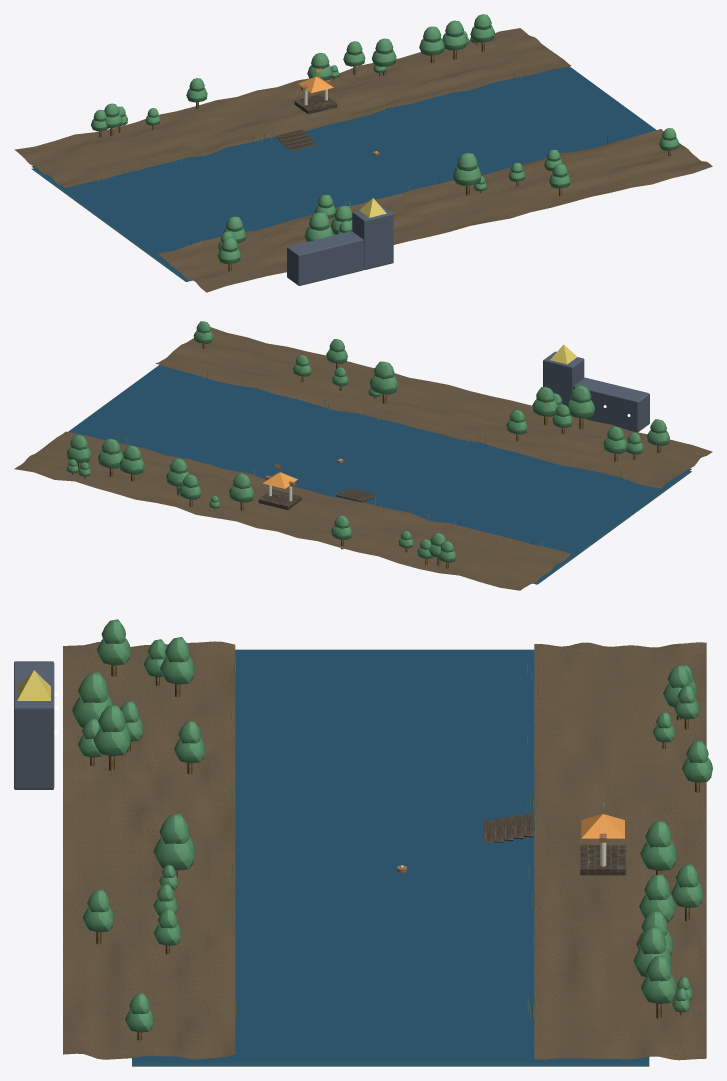
Rendered from adi-03-ganga.glb.
3 renders of one model, top to bottom at view 1: azimuth 30°, elevation 25°; view 2: azimuth 150°, elevation 25°; view 3: azimuth 270°, elevation 25°, orthographic. The views are drawn at different scales.
Parts seen in each view (by area): view 1: GEO-river, GEO-bank-near, GEO-bank-far, GEO-palace-main, GEO-palace-tower, GEO-ghat-step, GEO-shrine-base, GEO-riverbed; view 2: GEO-river, GEO-bank-far, GEO-bank-near, GEO-palace-main, GEO-palace-tower, GEO-shrine-base, GEO-riverbed, GEO-tree-canopy.048; view 3: GEO-river, GEO-bank-near, GEO-bank-far, GEO-palace-tower, GEO-riverbed, GEO-shrine-base, GEO-ghat-step, GEO-tree-canopy.048, GEO-shrine-roof, GEO-tree-canopy.052, GEO-tree-canopy.006, GEO-palace-dome (+6 smaller).
Boxes of the visible parts, <box> form: GEO-river: <box>31,66,656,279</box>; GEO-bank-near: <box>14,28,571,187</box>; GEO-bank-far: <box>155,129,712,292</box>; GEO-palace-main: <box>287,231,363,285</box>; GEO-palace-tower: <box>352,205,393,269</box>; GEO-ghat-step: <box>276,129,316,151</box>; GEO-shrine-base: <box>294,93,337,114</box>; GEO-riverbed: <box>31,168,191,281</box>; GEO-river: <box>68,365,691,582</box>; GEO-bank-far: <box>155,327,712,488</box>; GEO-bank-near: <box>14,431,571,590</box>; GEO-palace-main: <box>573,377,649,432</box>; GEO-palace-tower: <box>543,351,584,405</box>; GEO-shrine-base: <box>258,489,301,509</box>; GEO-riverbed: <box>533,471,691,584</box>; GEO-tree-canopy.048: <box>369,375,398,394</box>; GEO-river: <box>132,649,649,1062</box>; GEO-bank-near: <box>534,642,706,1060</box>; GEO-bank-far: <box>63,641,235,1059</box>; GEO-palace-tower: <box>14,683,54,789</box>; GEO-riverbed: <box>132,1062,649,1066</box>; GEO-shrine-base: <box>580,845,626,875</box>; GEO-ghat-step: <box>483,813,533,842</box>; GEO-tree-canopy.048: <box>153,836,195,870</box>; GEO-shrine-roof: <box>581,814,624,838</box>; GEO-tree-canopy.052: <box>93,725,130,756</box>; GEO-tree-canopy.006: <box>640,841,677,870</box>; GEO-palace-dome: <box>17,670,50,700</box>.
Size of the model in its own units: 170 by 21.57 by 122.
Materials: 16 (4 with a texture image).
